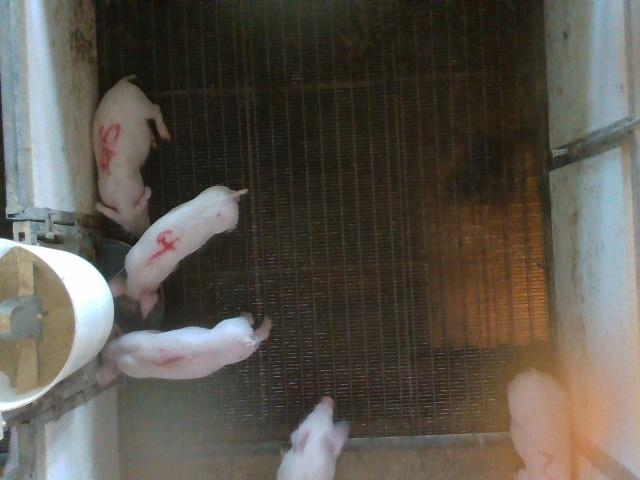pig-1: (98, 314, 271, 384)
pig-4: (110, 186, 244, 317)
pig-5: (92, 75, 170, 236)
